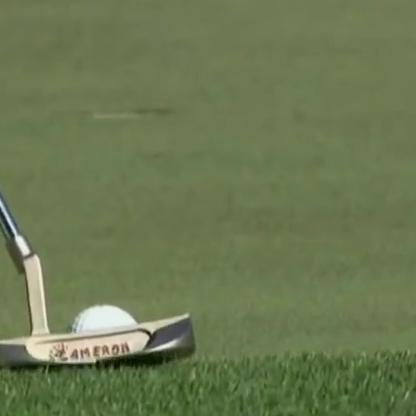golfball: (66, 318, 134, 349)
